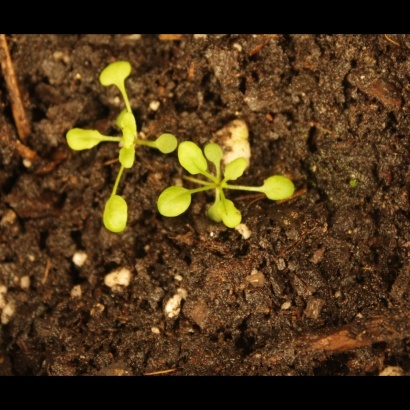leaf: (94, 192, 133, 234), (95, 55, 133, 92), (61, 124, 108, 152), (156, 186, 195, 218), (177, 141, 211, 177), (217, 192, 247, 231), (261, 172, 298, 203), (222, 153, 252, 183), (201, 140, 230, 167), (153, 130, 179, 159), (116, 144, 141, 173), (206, 194, 229, 223), (116, 108, 141, 133), (115, 127, 138, 150)
